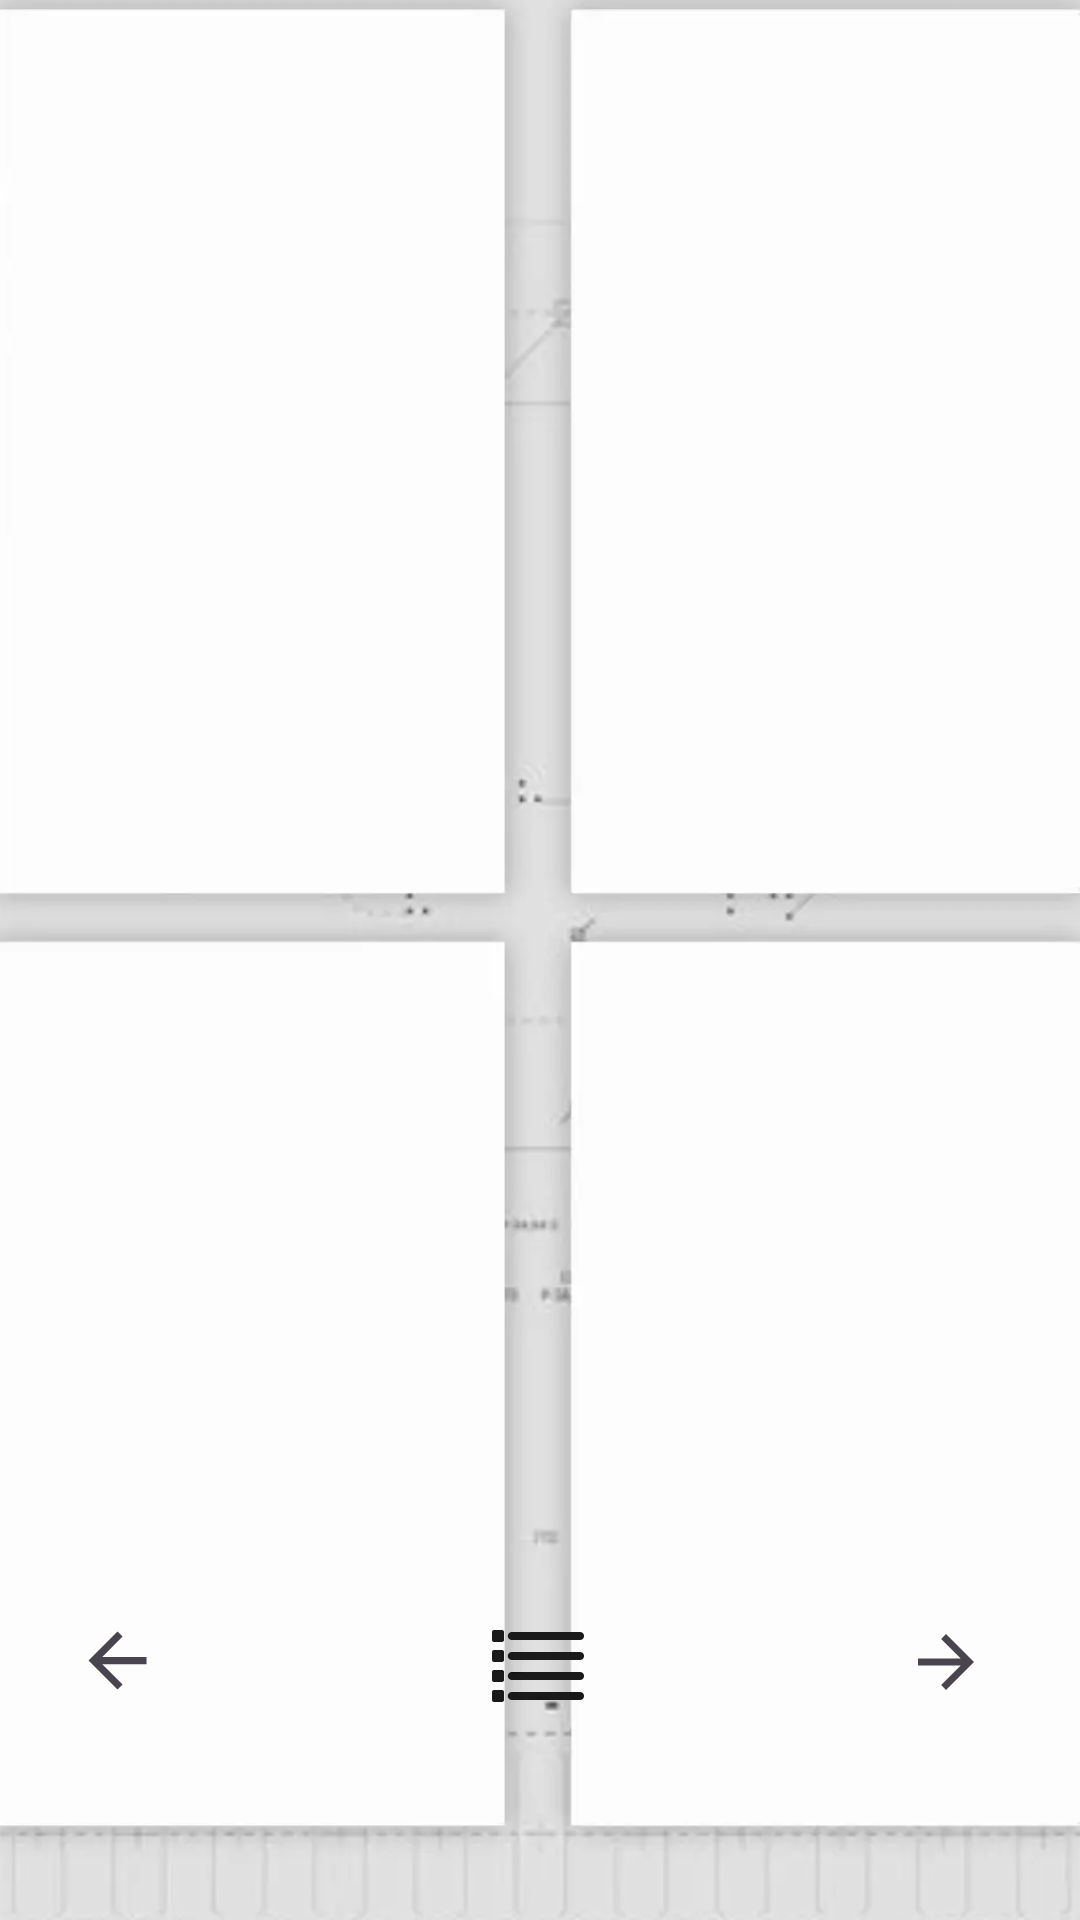

Named icons in this screenshot (1080px x 1920px) and their centers, (x,y):
list: (538,1666)
